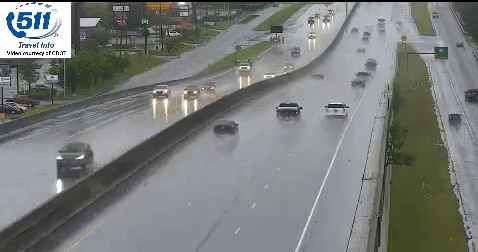car: (276, 102, 301, 119), (213, 120, 238, 135), (325, 102, 348, 118)
